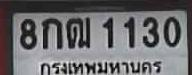0: (163, 16, 180, 46)
1: (123, 16, 134, 47), (102, 16, 112, 47)
3: (142, 16, 158, 47)
8: (19, 18, 36, 49)
A01: (41, 17, 62, 48)
A18: (66, 16, 90, 48)
BKK: (37, 59, 165, 75)
